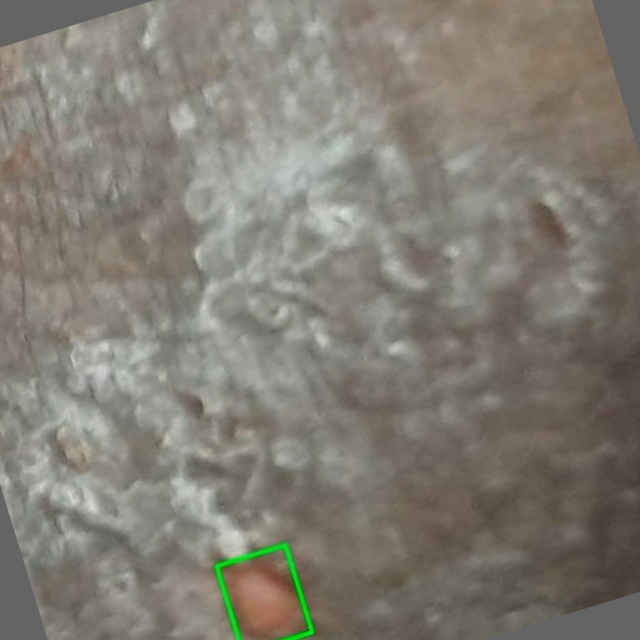Eczema: (216, 544, 312, 639)
